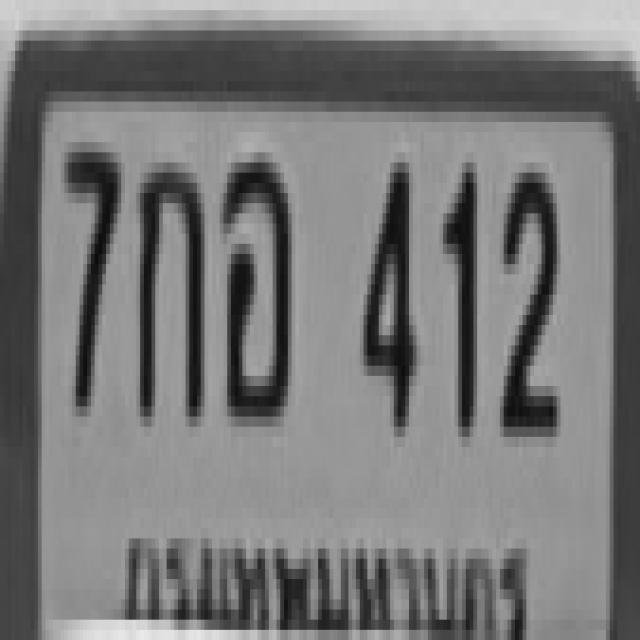1: (439, 147, 474, 422)
10GorGai: (132, 152, 200, 416)
2: (496, 162, 553, 426)
4: (360, 147, 413, 422)
52OrAng: (220, 148, 288, 412)
7: (61, 137, 118, 401)
Bangkok: (117, 517, 538, 640)
